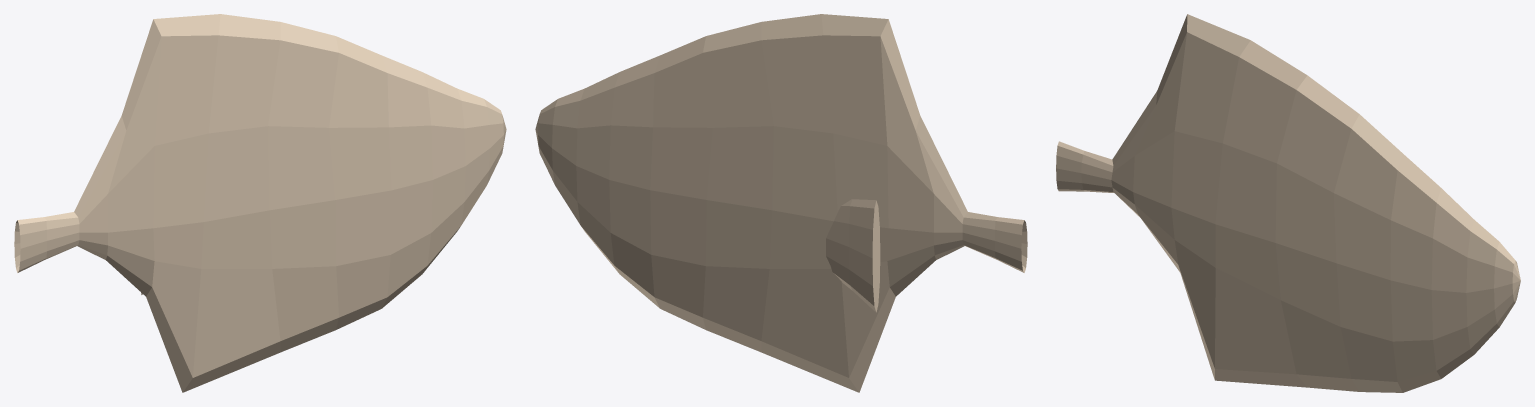
The model's file is Fish01_v1.fbx.
The picture shows the model from 3 angles, left to right: view 1: azimuth 30°, elevation 25°; view 2: azimuth 150°, elevation 25°; view 3: azimuth 330°, elevation 25°; orthographic projection. The views are drawn at different scales.
Parts seen in each view (by area): view 1: Fish01; view 2: Fish01; view 3: Fish01.
Boxes of the visible parts, bbox=[...] form: Fish01: bbox=[14, 14, 506, 392]; Fish01: bbox=[535, 14, 1027, 392]; Fish01: bbox=[1056, 14, 1520, 392].
Size of the model in its own units: 89.06 by 66.3 by 8.5.
